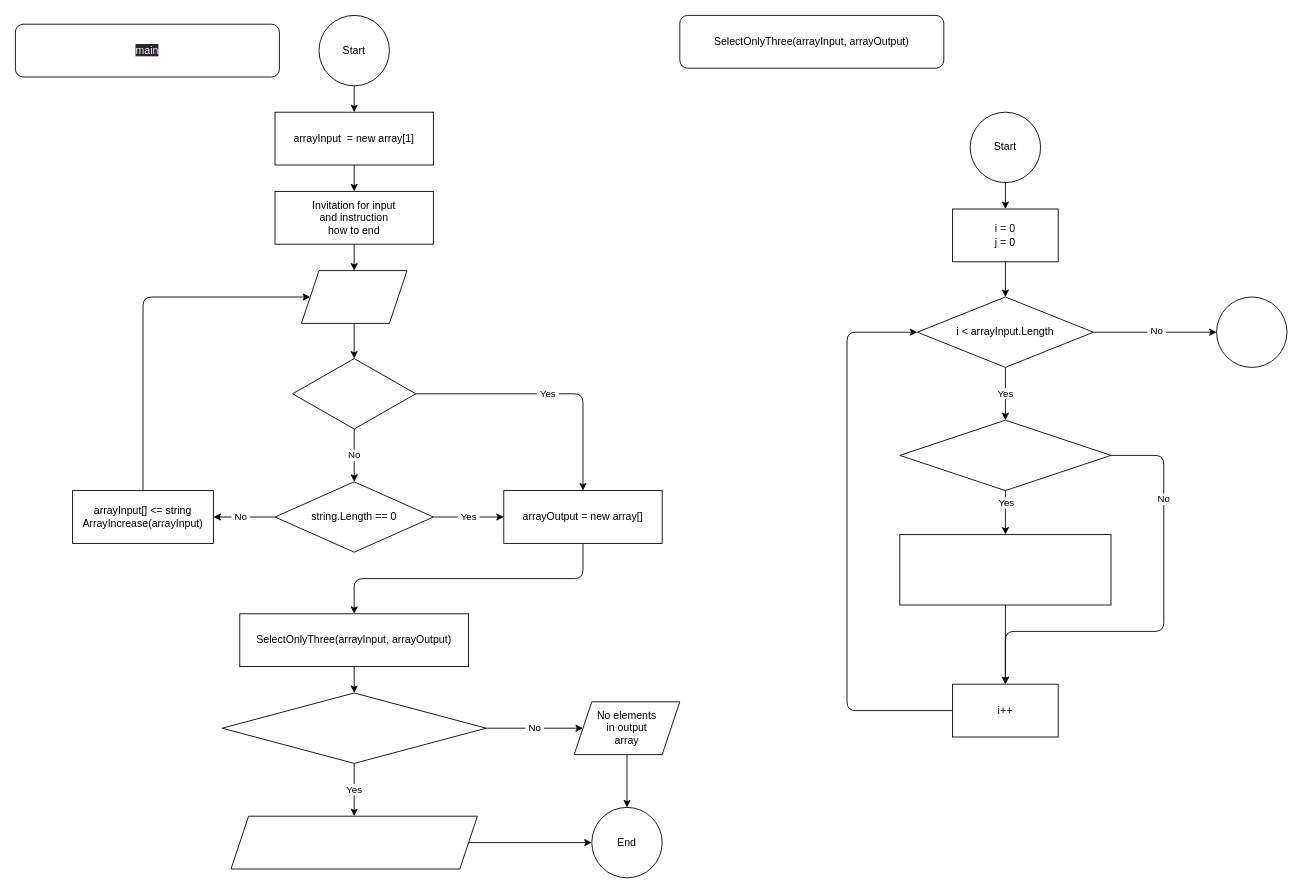
This 1302x893 diagram has some shape labels left out. Here are the shapes that lost their labels. From the top down, the centre of each, then its label:
[354,296]: input string
[1251,331]: Return
[354,393]: string == end
[1005,455]: arrayInput[i].Length < 4
[1005,569]: arrayOutput[j] = arrayInput[i] j++ ArrayIncrease(arrayOutput)
[353,727]: arrayOutput.Length > 0
[353,842]: output arrayOutput
